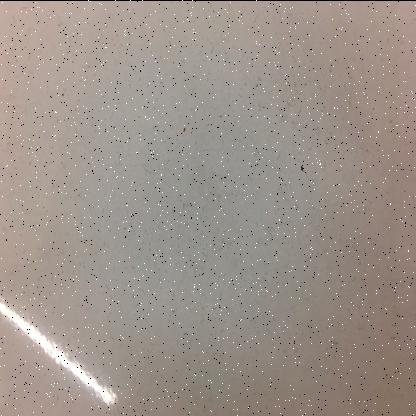Nocrack: (0, 20, 398, 403)
